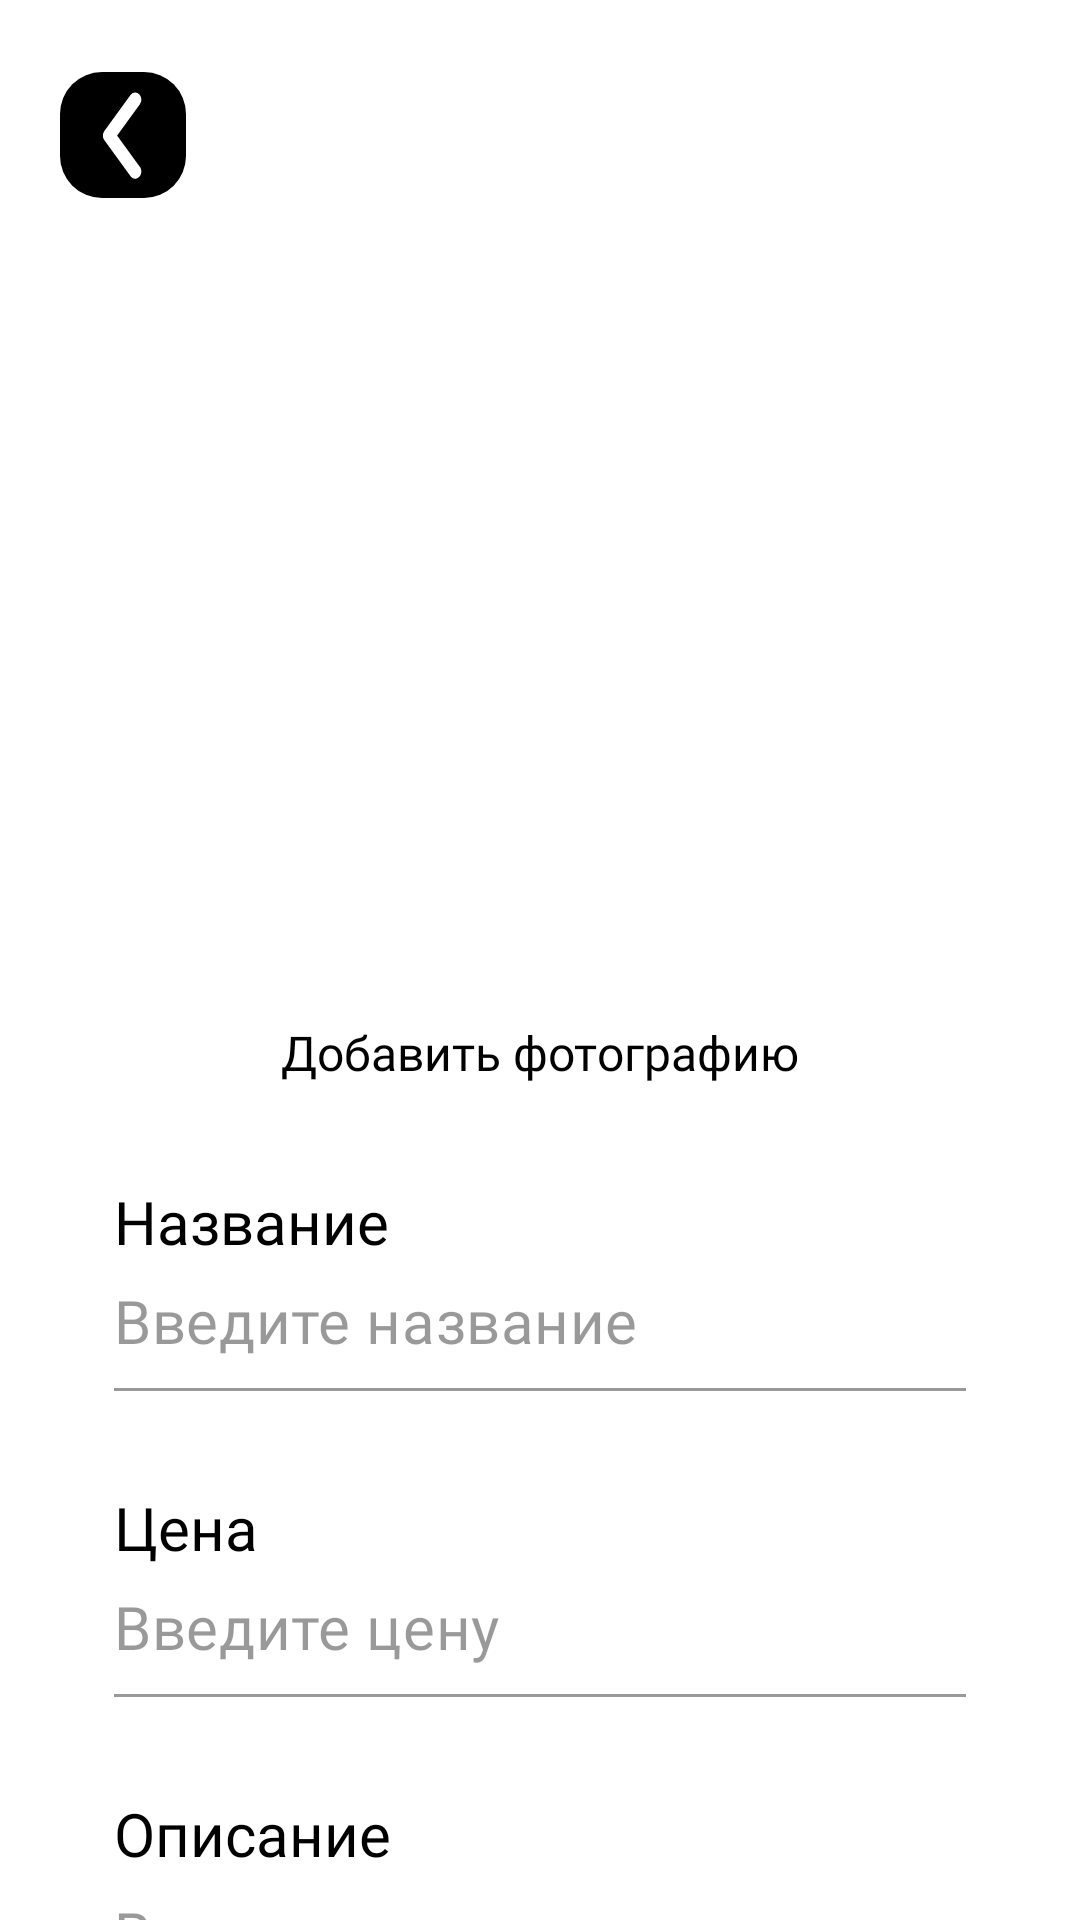

Icons on this 1080×1920 Android screen, each with the point to tap as [x,y]:
back: [123,135]
